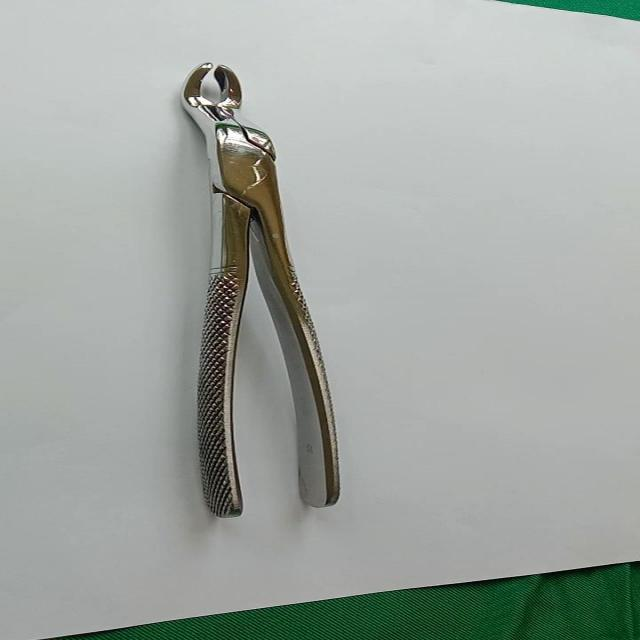BayonetForcep: (142, 58, 376, 522)
